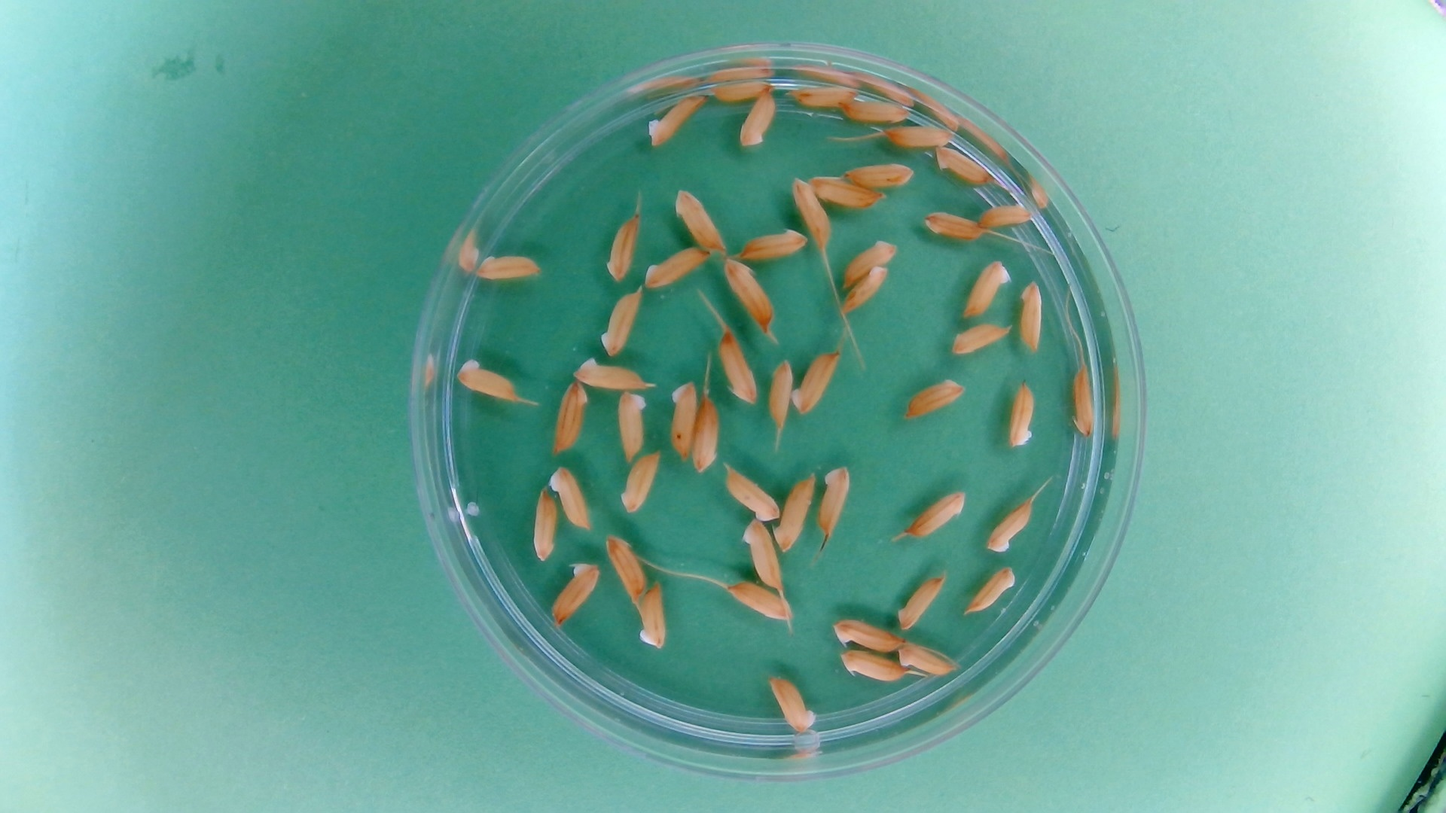no: (721, 254, 779, 335), (672, 184, 728, 254), (773, 470, 819, 555), (645, 89, 708, 149), (790, 346, 842, 417), (548, 561, 602, 627), (716, 327, 760, 406), (739, 515, 784, 592), (904, 488, 970, 540), (721, 463, 779, 522), (597, 286, 644, 358), (960, 256, 1011, 321), (642, 244, 712, 291), (602, 531, 647, 604), (453, 355, 520, 404), (546, 462, 593, 531), (840, 236, 898, 291), (984, 494, 1036, 555), (767, 673, 818, 735), (569, 354, 654, 391), (725, 580, 796, 624), (896, 571, 947, 632), (550, 379, 590, 456), (790, 175, 832, 248), (617, 449, 662, 516), (807, 172, 886, 210), (901, 376, 966, 422), (962, 564, 1019, 616), (735, 224, 810, 263), (665, 377, 699, 462), (816, 464, 852, 542), (603, 212, 642, 284), (737, 87, 780, 150), (840, 263, 892, 315), (830, 617, 905, 653), (837, 92, 916, 126), (932, 144, 994, 187), (615, 387, 650, 463), (690, 394, 723, 473), (473, 249, 545, 285), (837, 648, 908, 684), (1066, 363, 1098, 440), (1004, 377, 1038, 449), (947, 321, 1013, 358), (636, 580, 670, 651), (529, 486, 560, 562), (920, 209, 987, 243), (896, 641, 959, 677), (841, 160, 917, 189), (785, 81, 857, 111), (883, 122, 957, 151), (1016, 279, 1045, 353), (766, 357, 795, 428), (975, 197, 1036, 230), (711, 83, 773, 102)
